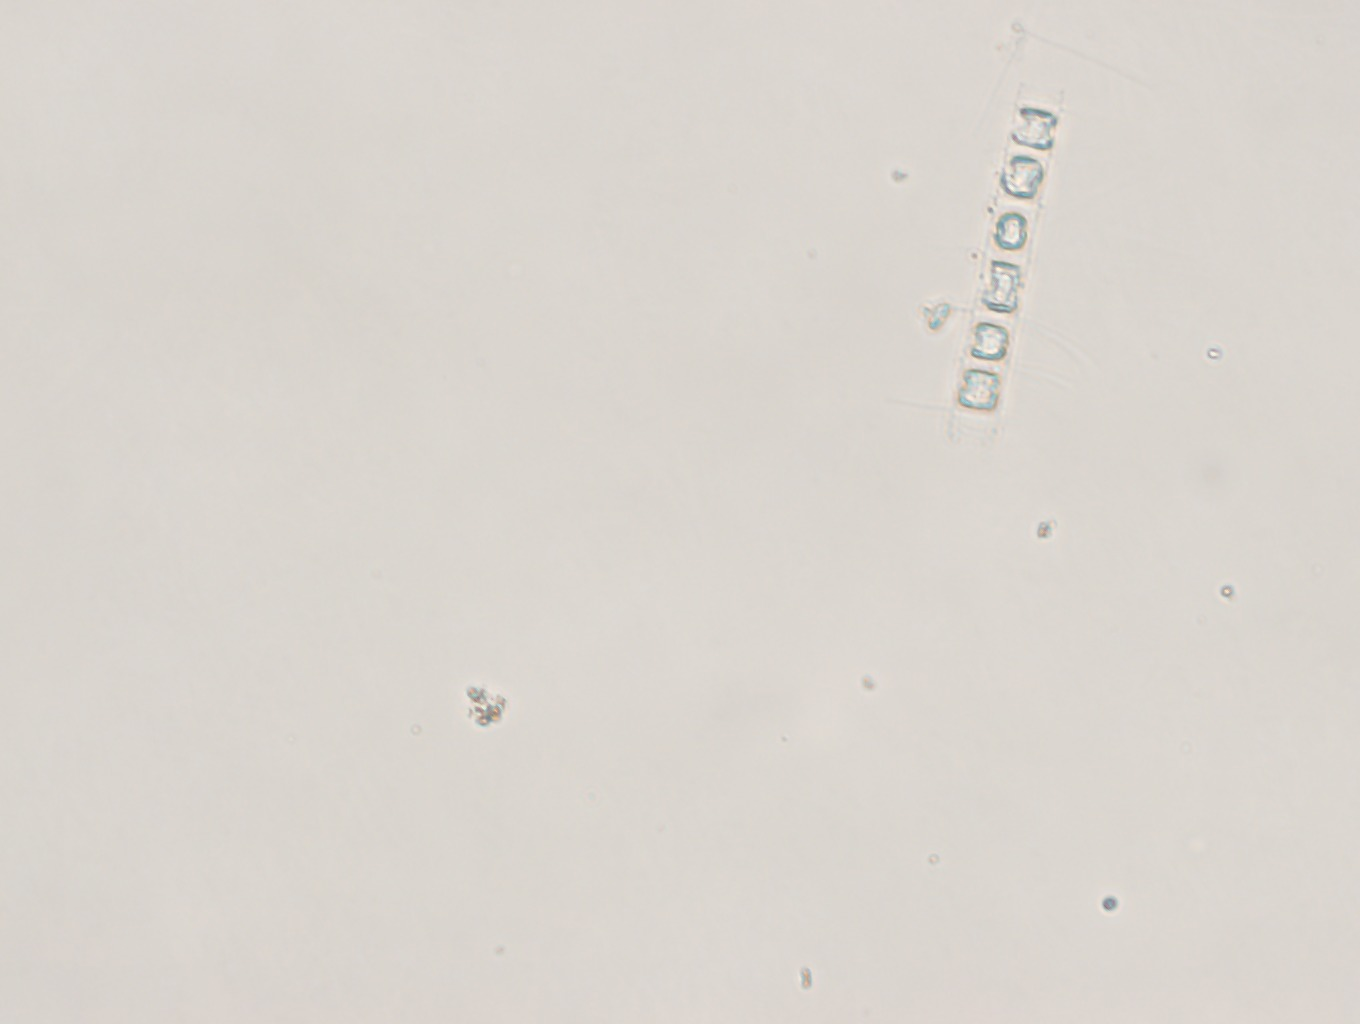chaetoceros: (918, 59, 1102, 455)
